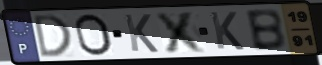B: (243, 7, 288, 52)
D: (32, 13, 73, 60)
K: (207, 10, 246, 52), (122, 13, 160, 54)
O: (73, 13, 116, 58)
X: (153, 9, 209, 54)
